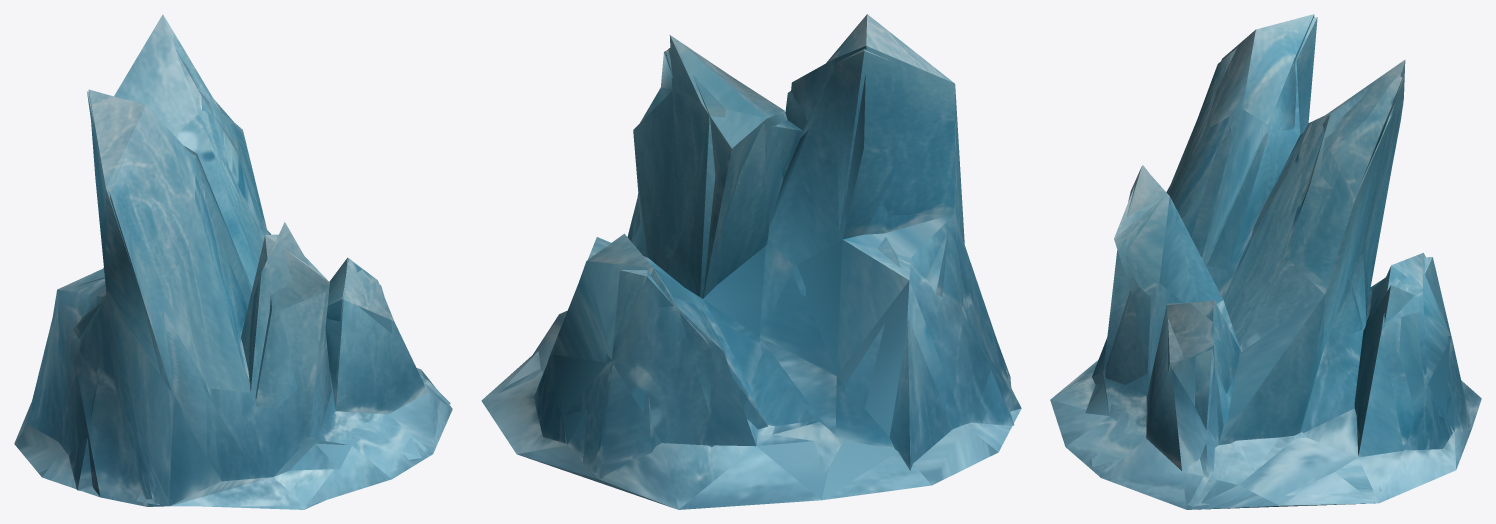
File: glacier-spires-lod2.glb
3 renders of one model, left to right at view 1: azimuth 30°, elevation 25°; view 2: azimuth 150°, elevation 25°; view 3: azimuth 270°, elevation 25°, orthographic. The views are drawn at different scales.
Visible parts, largest first — view 1: glacier-spires.002; view 2: glacier-spires.002; view 3: glacier-spires.002.
Boxes of the visible parts, box(x1,y1,x2,y2) form: glacier-spires.002: box(14, 14, 452, 509); glacier-spires.002: box(481, 14, 1021, 509); glacier-spires.002: box(1050, 14, 1481, 509).
Bounding box in the file's own units: 14.53 × 13.14 × 14.22.
Materials: 1 (1 with a texture image).
